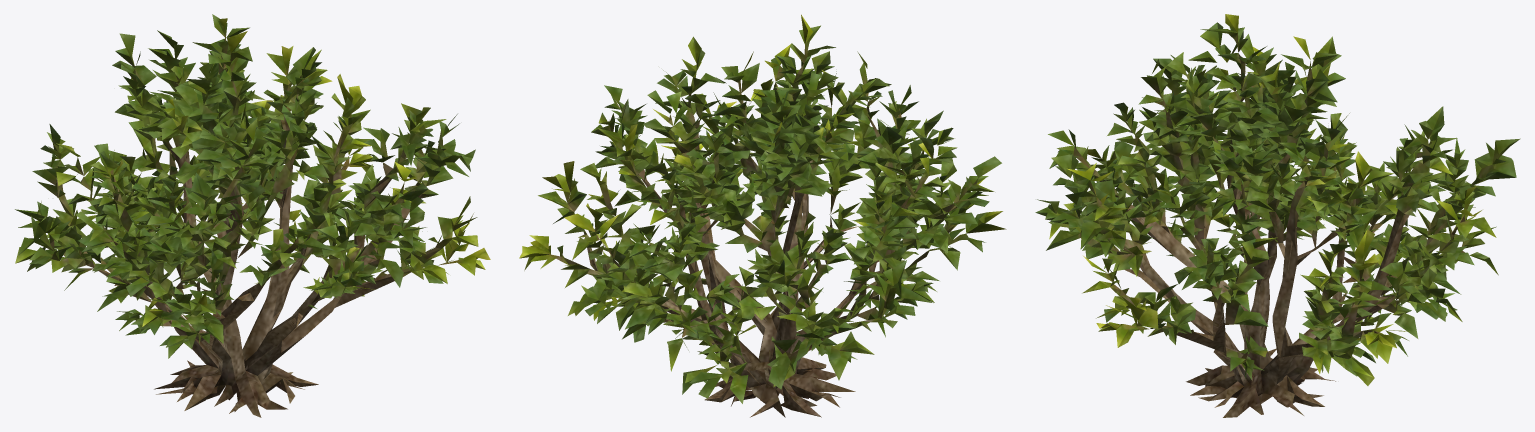
The picture shows the model from 3 angles, left to right: view 1: azimuth 30°, elevation 25°; view 2: azimuth 150°, elevation 25°; view 3: azimuth 270°, elevation 25°; orthographic projection. The views are drawn at different scales.
Visible parts, largest first — view 1: berry-bush; view 2: berry-bush; view 3: berry-bush.
Part boxes in pixels (<box>): berry-bush: <box>15,14,490,417</box>; berry-bush: <box>519,14,1006,417</box>; berry-bush: <box>1035,14,1520,417</box>.
Size of the model in its own units: 1.29 by 1.19 by 1.39.
1 material, 1 textured.
